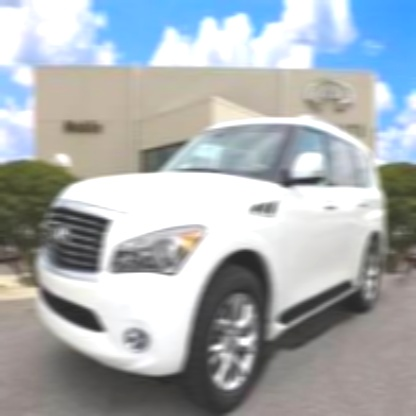Vehicle: (34, 118, 386, 413)
